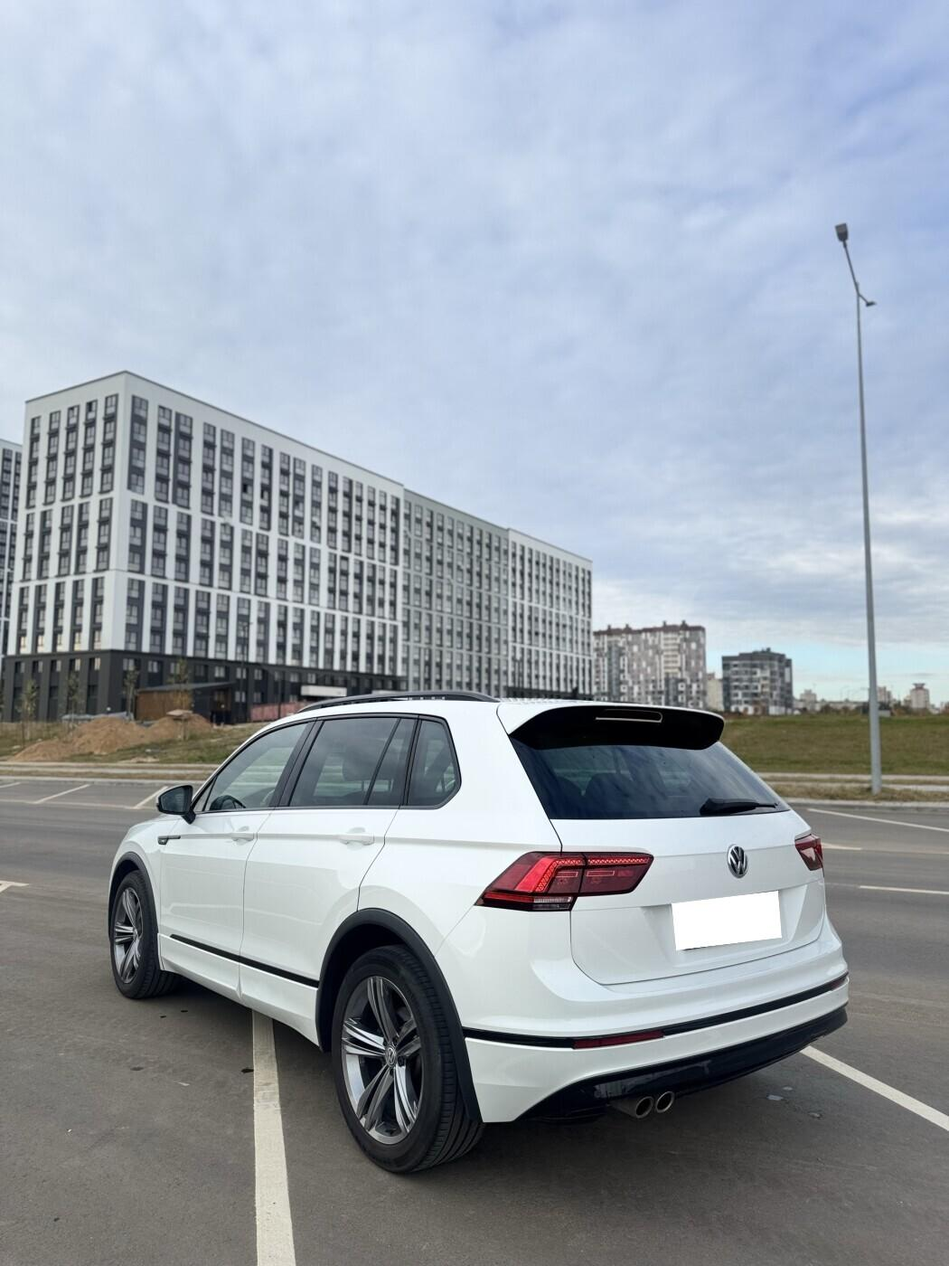Tiguan_2016-2021: (105, 687, 868, 1170)
